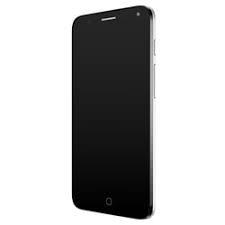Smartphone: (67, 9, 168, 223)
